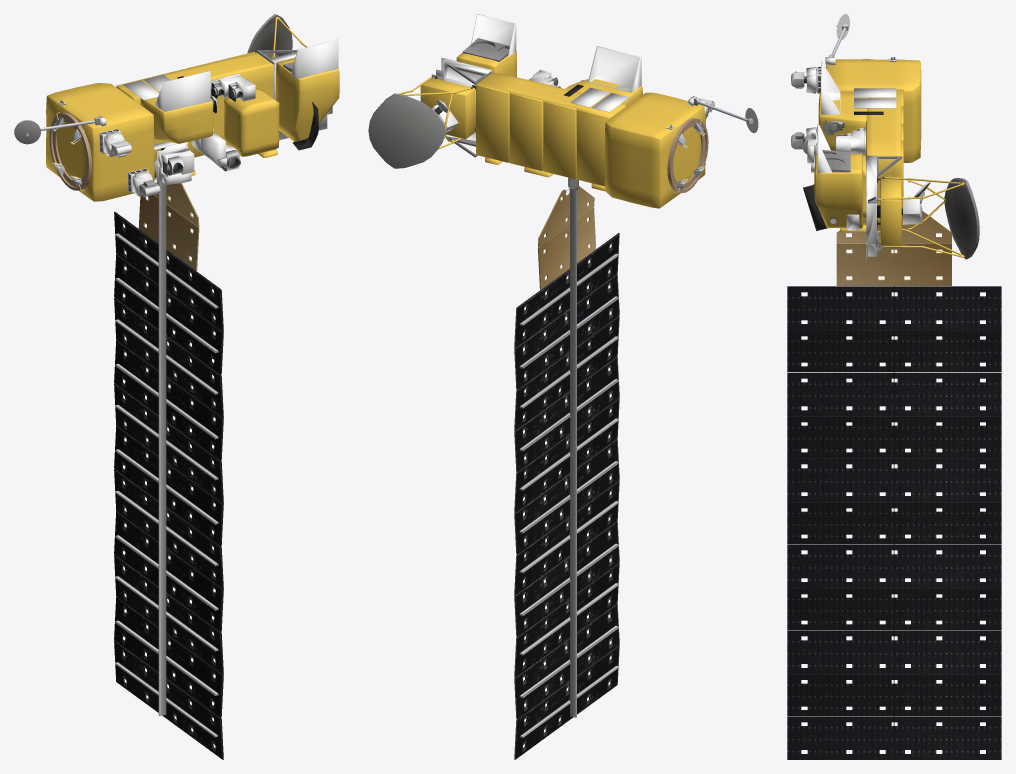
Rendered from Aqua.gltf.
3 renders of one model, left to right at view 1: azimuth 30°, elevation 25°; view 2: azimuth 150°, elevation 25°; view 3: azimuth 270°, elevation 25°, orthographic. The views are drawn at different scales.
Visible parts, largest first — view 1: panel, foil_gold, foil_silver, tex_01, instruments, ring; view 2: panel, foil_gold, tex_01, foil_silver, ring; view 3: shiny_panel, foil_gold, panel, foil_silver, tex_01, instruments, black_krinkle.
Part boxes in pixels (x1=…): panel: x1=114, y1=172, x2=223, y2=759; foil_gold: x1=46, y1=17, x2=339, y2=201; foil_silver: x1=98, y1=39, x2=338, y2=196; tex_01: x1=14, y1=14, x2=297, y2=144; instruments: x1=58, y1=50, x2=278, y2=197; ring: x1=49, y1=112, x2=91, y2=190; panel: x1=514, y1=177, x2=619, y2=759; foil_gold: x1=398, y1=51, x2=705, y2=208; tex_01: x1=368, y1=38, x2=758, y2=168; foil_silver: x1=431, y1=14, x2=711, y2=140; ring: x1=667, y1=117, x2=708, y2=193; shiny_panel: x1=787, y1=287, x2=1001, y2=759; foil_gold: x1=814, y1=59, x2=964, y2=257; panel: x1=787, y1=211, x2=1001, y2=754; foil_silver: x1=795, y1=57, x2=922, y2=260; tex_01: x1=822, y1=14, x2=979, y2=259; instruments: x1=791, y1=56, x2=930, y2=247; black_krinkle: x1=803, y1=111, x2=883, y2=230.
Size of the model in its own units: 9.4 by 17.78 by 5.08.
11 materials, 4 textured.
